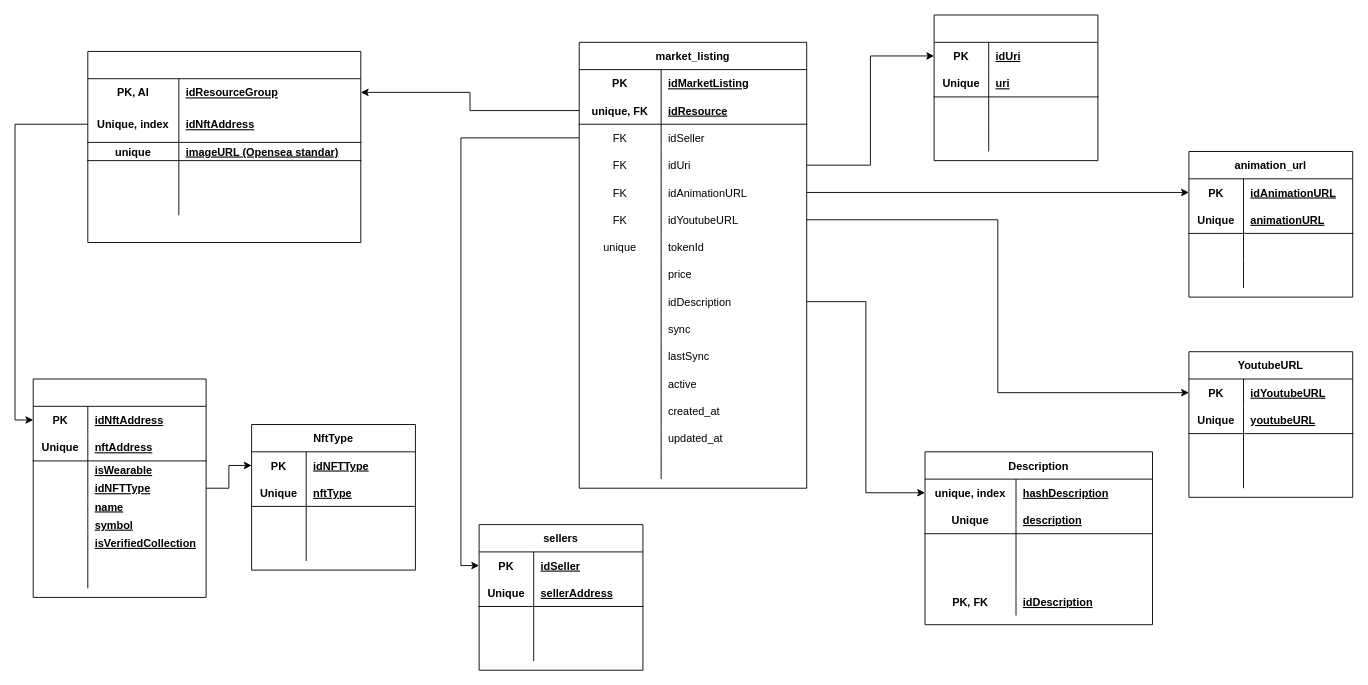
This 1368x685 diagram has some shape labels left out. Here are the shapes that lost their labels. From the top down, the box of each, then its label:
(933, 14, 1098, 161): URIs
(87, 51, 361, 243): resourceGroups
(32, 378, 206, 597): NFTAddresses
